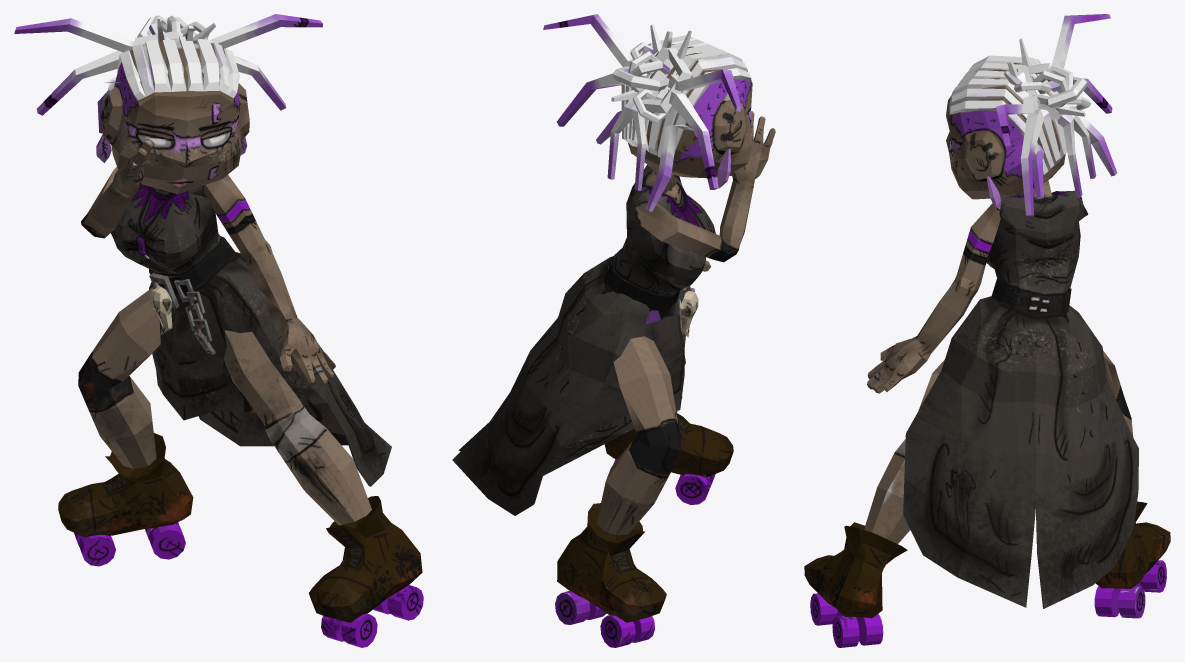
File: bruja_000065.obj
3 views of the same model, side by side, from view 1: azimuth 30°, elevation 25°; view 2: azimuth 150°, elevation 25°; view 3: azimuth 270°, elevation 25° (orthographic). The views are drawn at different scales.
Visible parts, largest first — view 1: Bruja_Plane.001; view 2: Bruja_Plane.001; view 3: Bruja_Plane.001.
Part boxes in pixels (x1,y1,x2,y2): Bruja_Plane.001: (14,14,423,647); Bruja_Plane.001: (452,14,775,647); Bruja_Plane.001: (804,14,1170,647).
Size of the model in its own units: 9.2 by 15.42 by 9.25.
